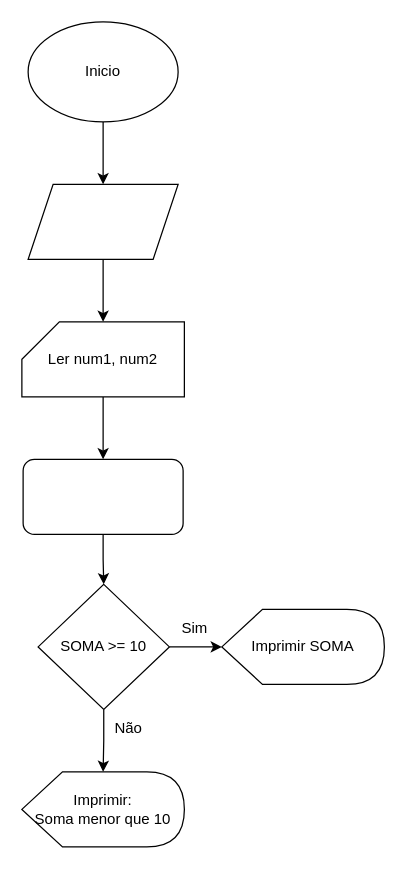
This 406x869 diagram has some shape labels left out. Here are the shapes that lost their labels. From the top down, the box of each, then its label:
(27, 183, 178, 259): SOMA = 0
(22, 458, 183, 534): SOMA = num1 + num2
